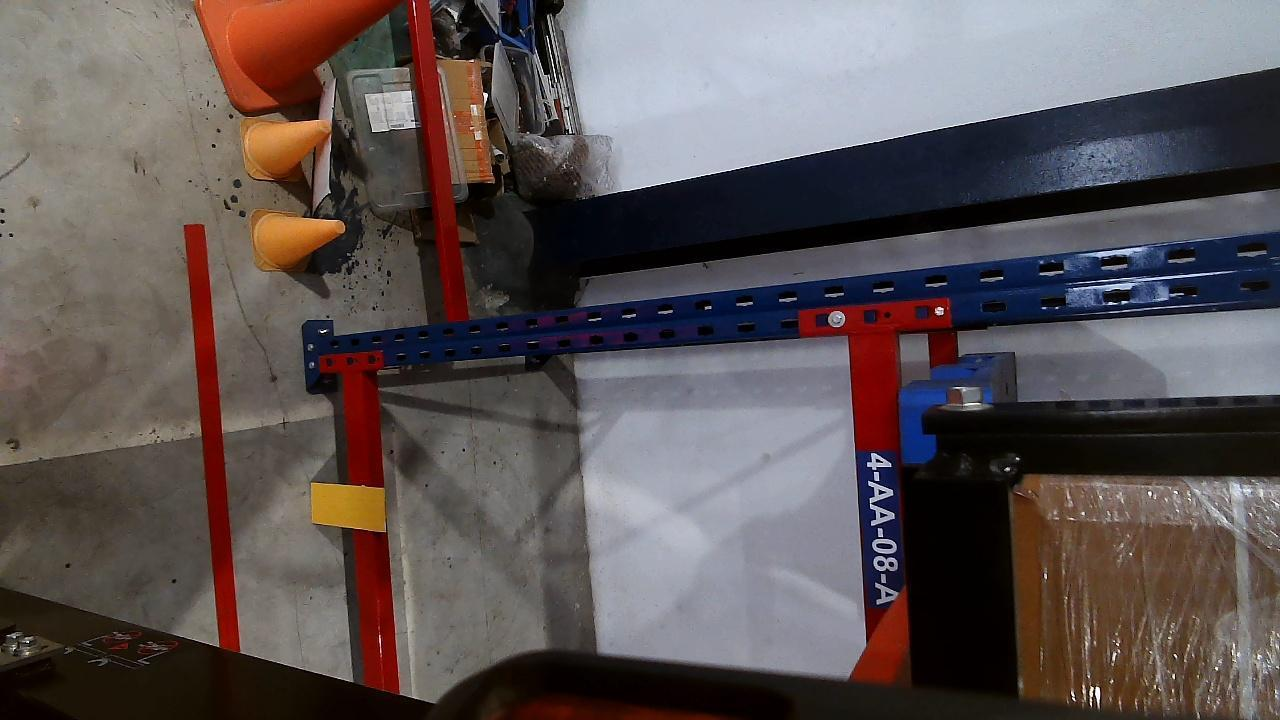red_line: (183, 226, 238, 649)
